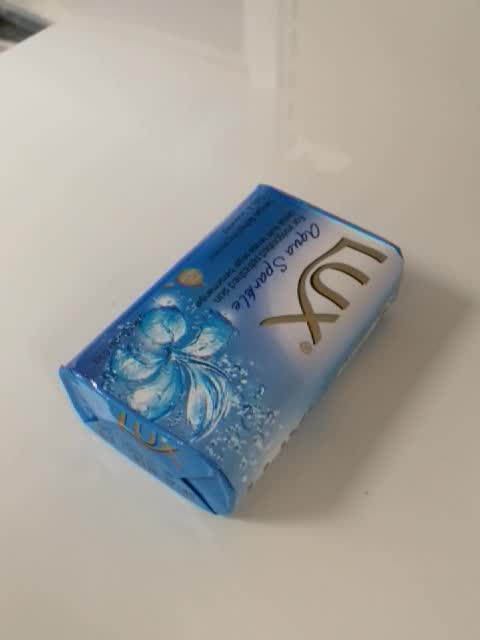soap: (55, 180, 408, 521)
